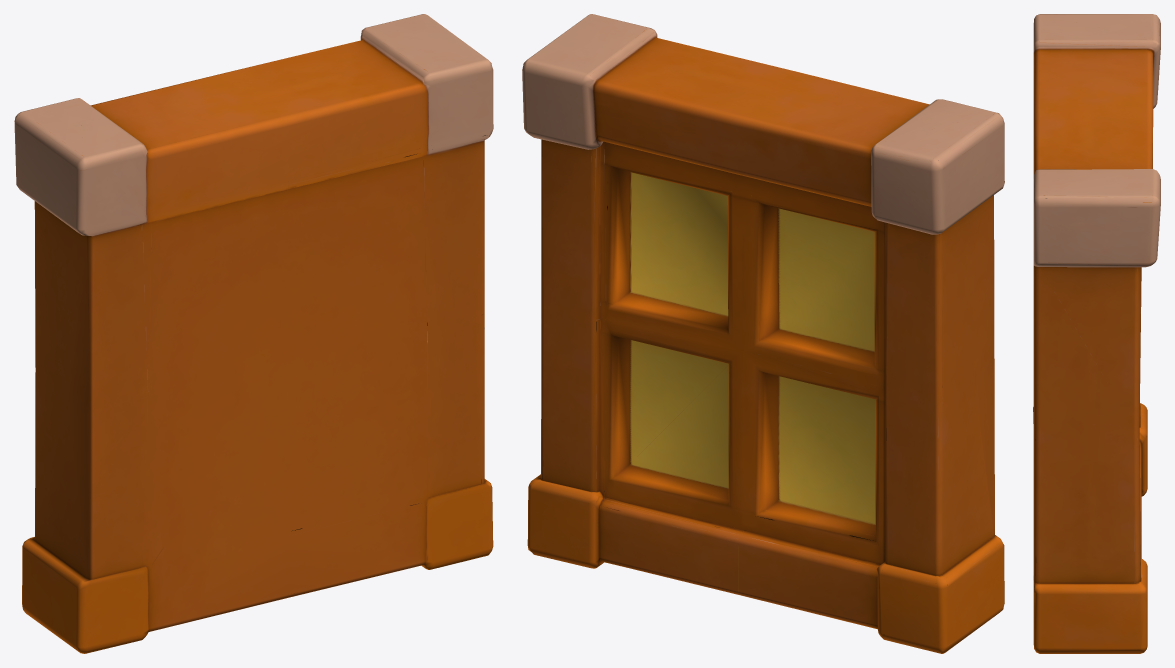
The model's file is window_plain.glb.
3 renders of one model, left to right at view 1: azimuth 30°, elevation 25°; view 2: azimuth 150°, elevation 25°; view 3: azimuth 270°, elevation 25°, orthographic. The views are drawn at different scales.
Visible parts, largest first — view 1: geometry_0; view 2: geometry_0; view 3: geometry_0.
Part boxes in pixels (x1=…): geometry_0: x1=14, y1=14, x2=493, y2=653; geometry_0: x1=522, y1=14, x2=1004, y2=653; geometry_0: x1=1033, y1=14, x2=1160, y2=653.
Bounding box in the file's own units: 0.8364 × 0.9512 × 0.2402.
Materials: 1 (1 with a texture image).
